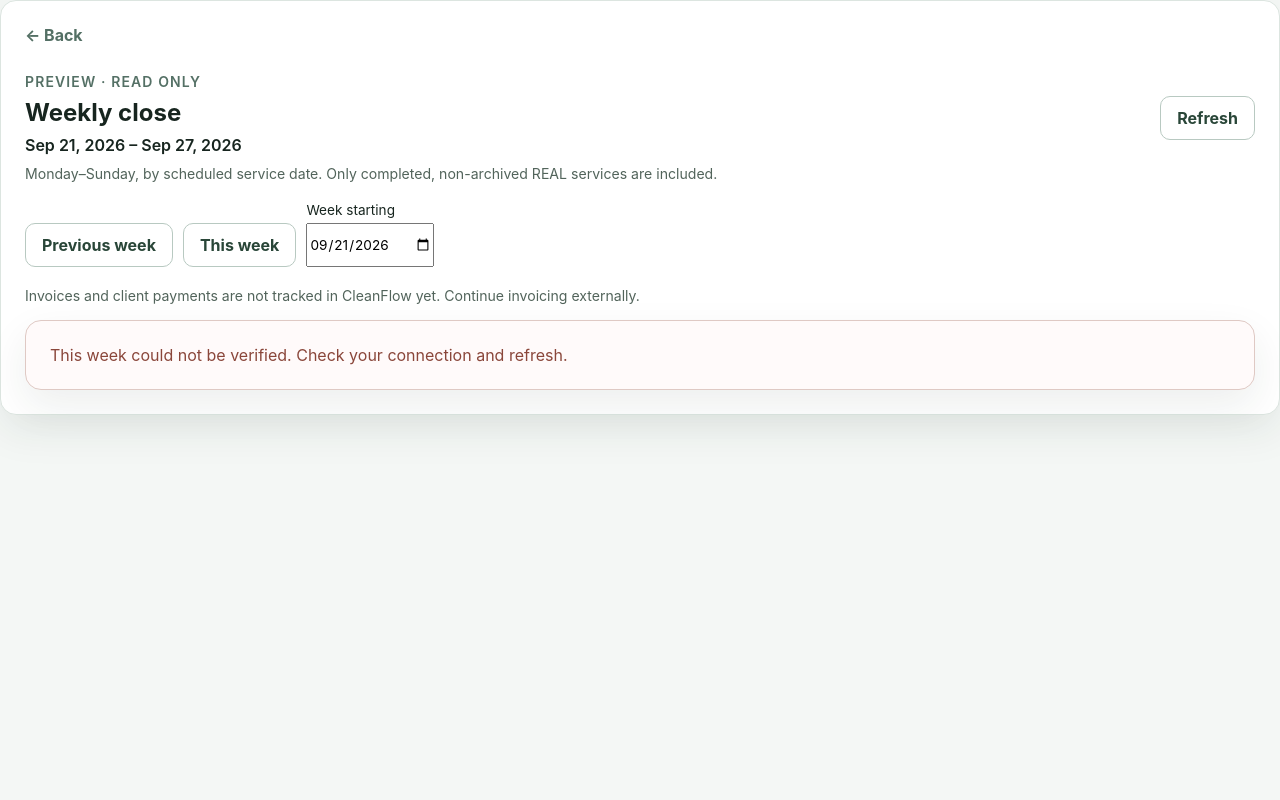
Test: Weekly Close manager preview › resume checks the absolute deadline without renewing a suspended load
The width and height of the screenshot is (1280, 800).
Expected: the message shows "could not be verified", [50, 345, 568, 365]
Click the button "Refresh" at [1208, 118], box [1160, 96, 1255, 140]
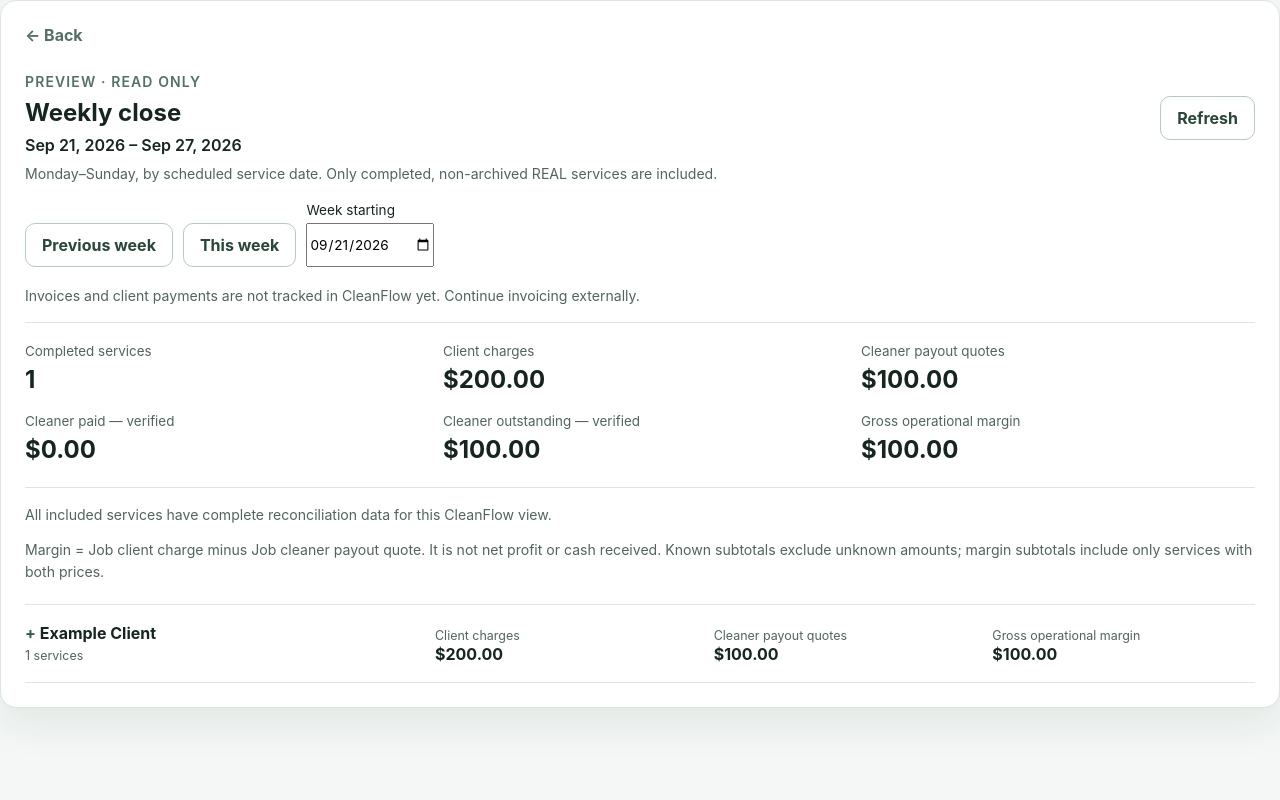
Expected: the text "Example Client" is shown, [25, 623, 156, 643]
